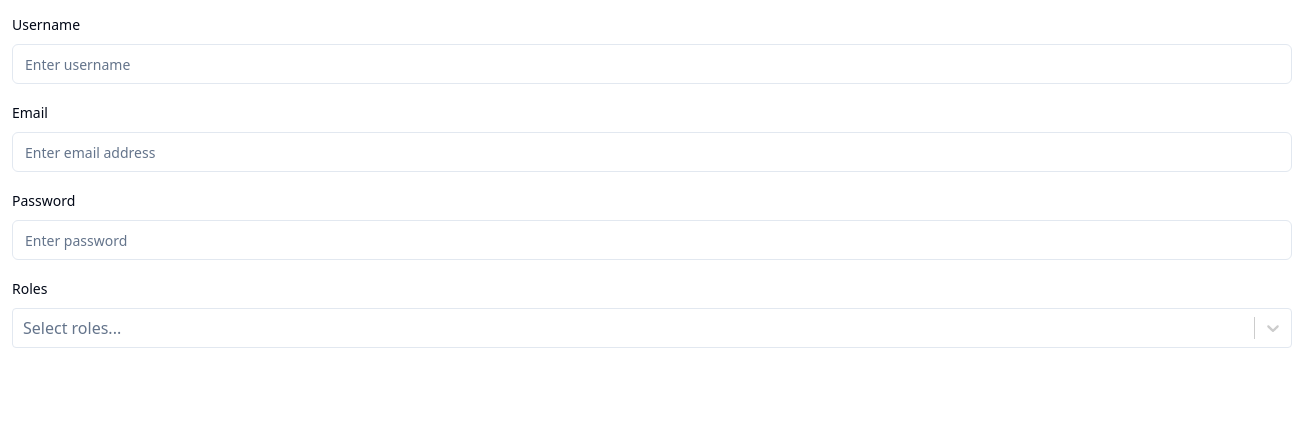
AddUser › shows validation error for invalid email
Type "invalid-email" into the field labelled "Email". click: {"x": 652, "y": 152}
box: [12,132,1292,172]
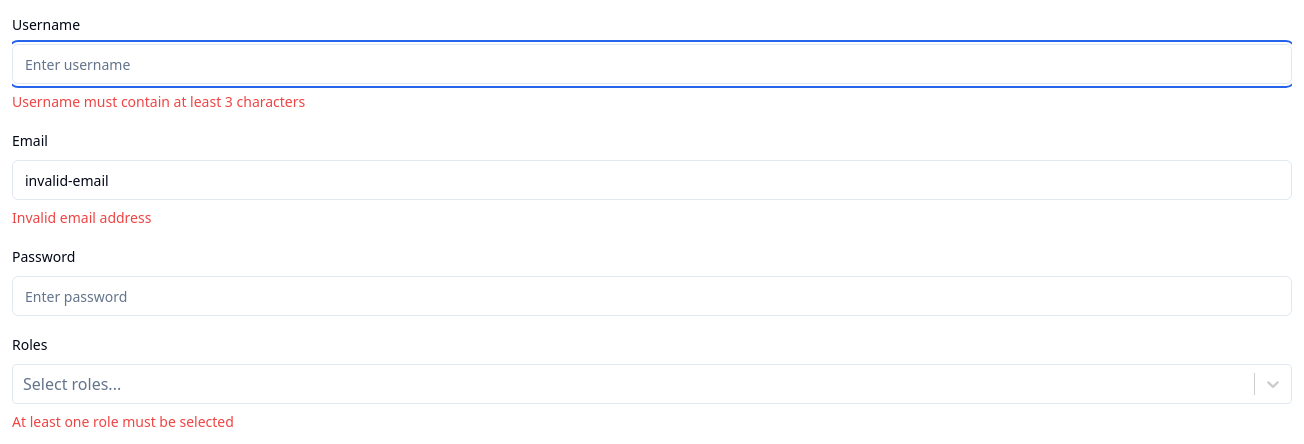
Now the text "Invalid email address" is shown, box [12,208,151,227]
